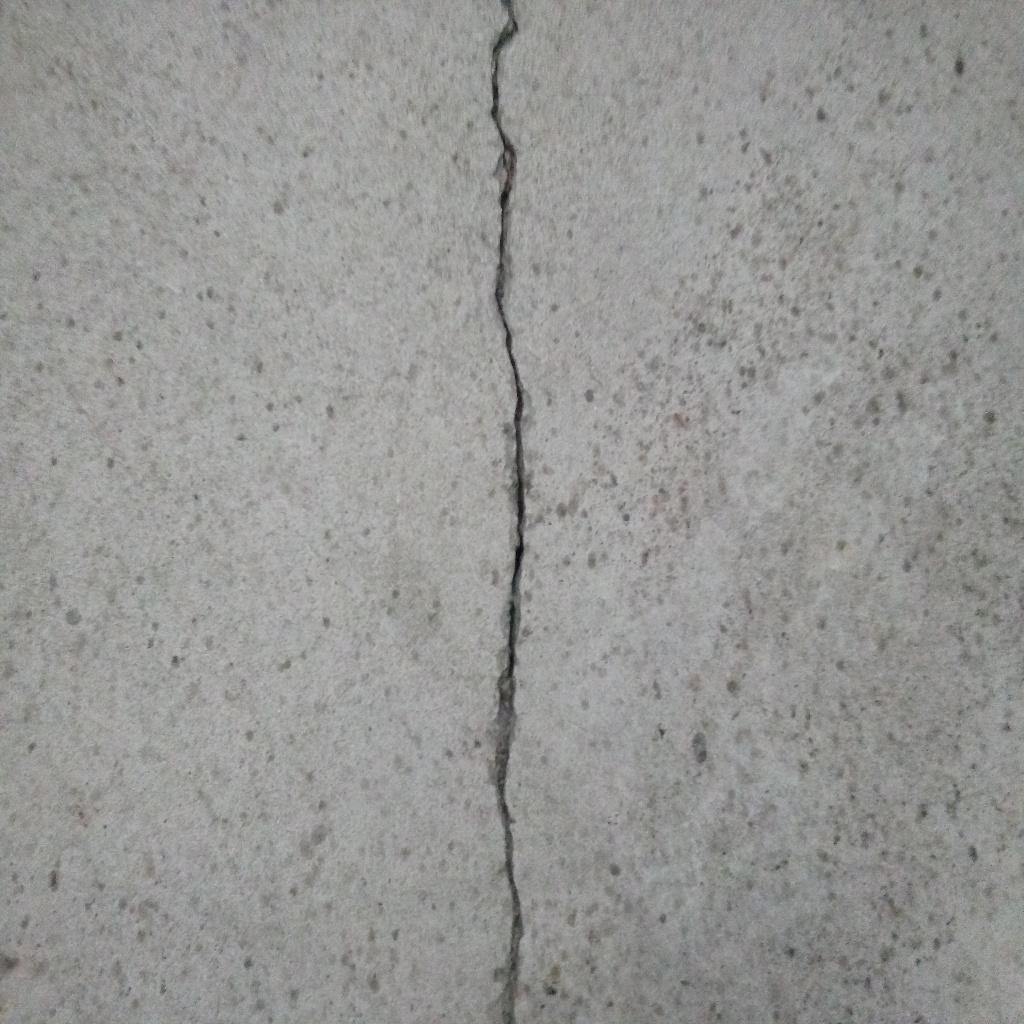Crack: (488, 1, 524, 1024)
